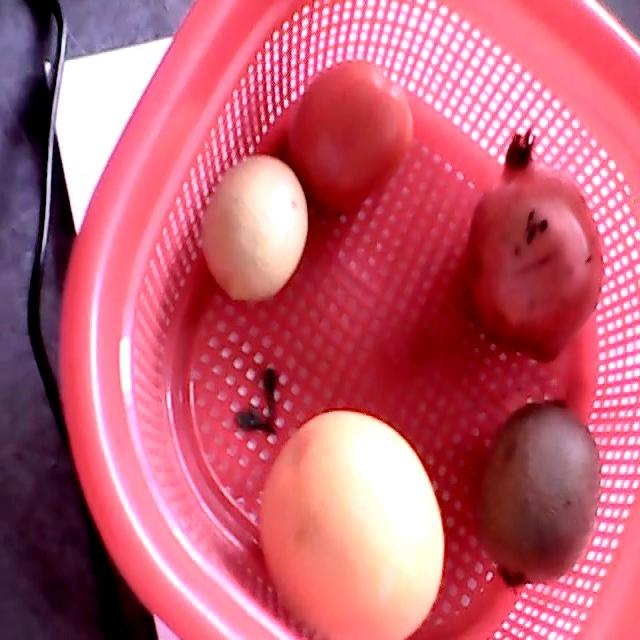kiwi: (473, 395, 598, 588)
orange: (259, 412, 444, 637), (201, 155, 308, 298)
pomegranate: (467, 125, 601, 362)
tomato: (290, 61, 411, 216)
